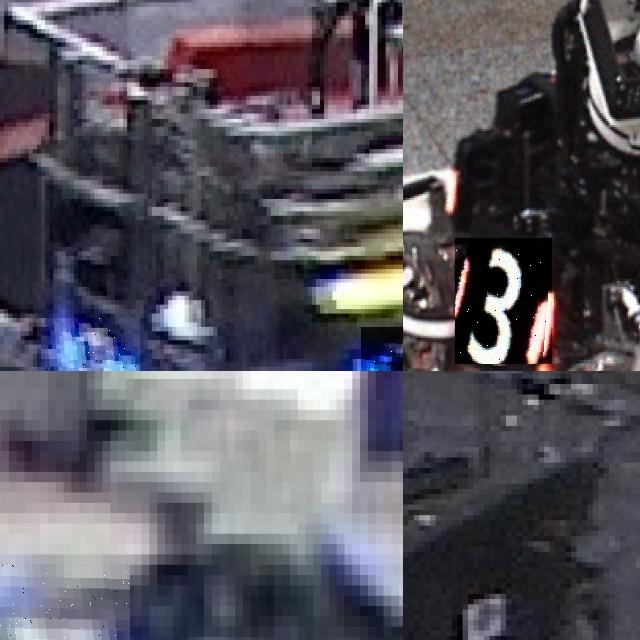B2: (41, 317, 139, 371), (361, 326, 403, 371)
B4: (0, 564, 129, 640)
R3: (455, 238, 552, 364)
